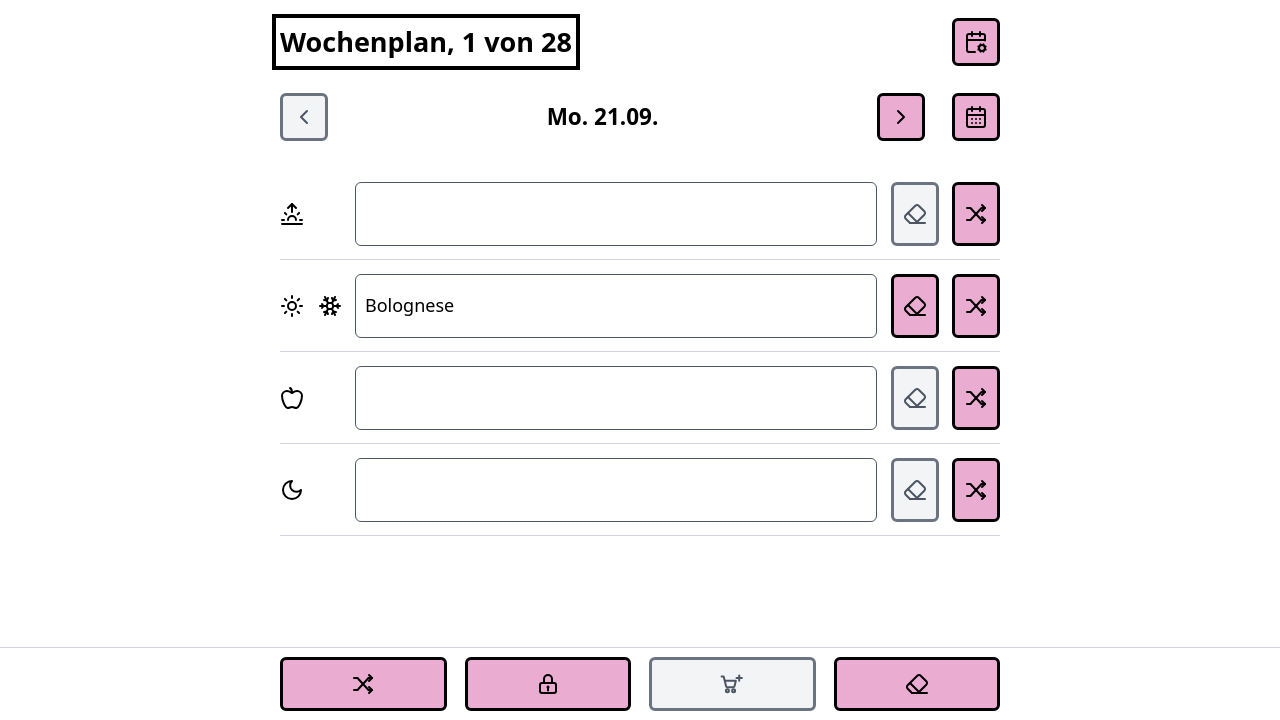
Test: WeekPlanArea › drops the mark when the meal time turns to a meal without a supply
Replace the text in the field named "Mittagessen" with "pi": [616, 306] box [355, 274, 877, 338]
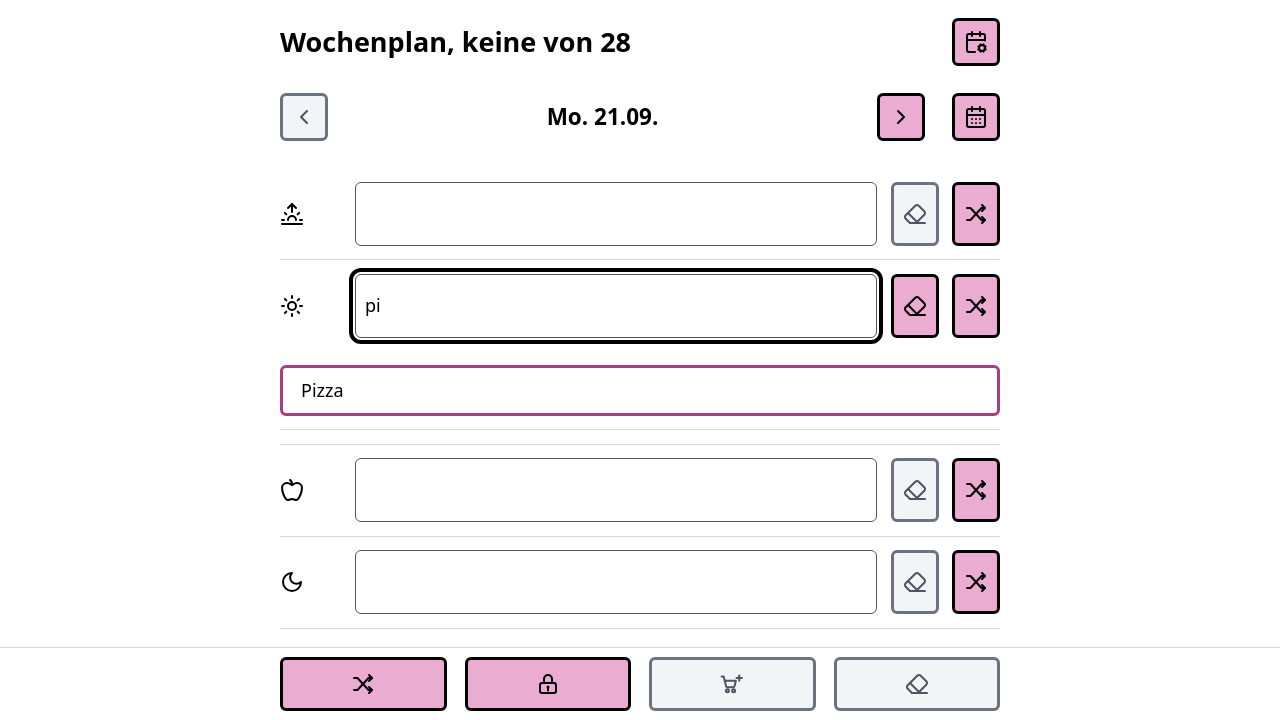
Click the button "Pizza": [322, 390] box [280, 364, 1000, 416]
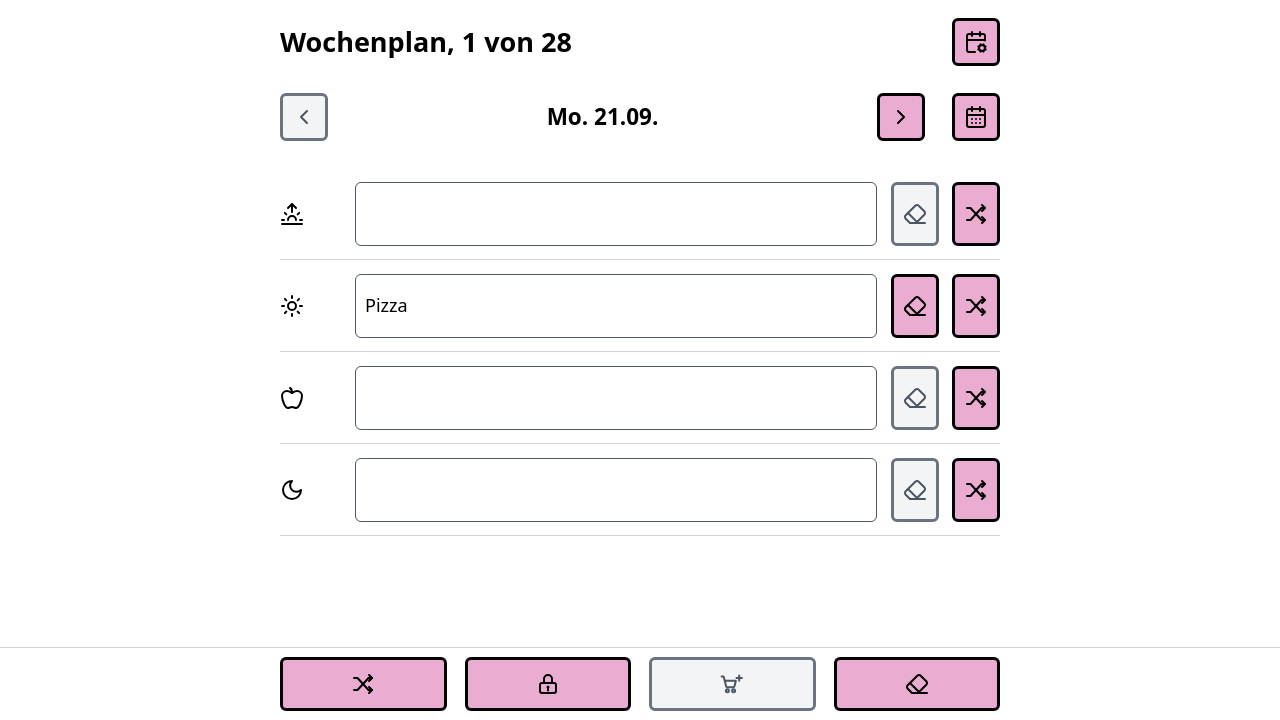
Check: the field named "Mittagessen" holds "Pizza", box [355, 274, 877, 338]
